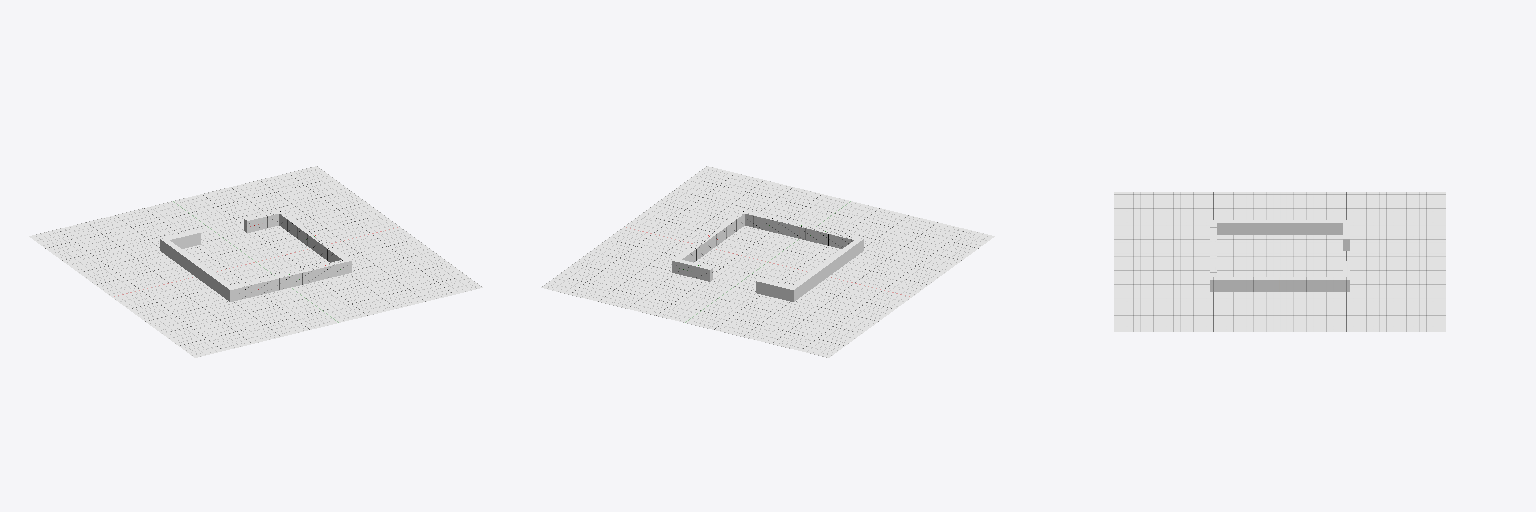
3 renders of one model, left to right at view 1: azimuth 30°, elevation 25°; view 2: azimuth 150°, elevation 25°; view 3: azimuth 270°, elevation 25°, orthographic.
Parts seen in each view (by area): view 1: object40, object24, object32, object16, object0; view 2: object40, object24, object32, object16, object0; view 3: object40, object16, object32.
Boxes of the visible parts, box(x1,y1,x2,y2) form: object40: box(29, 166, 482, 357); object24: box(233, 260, 345, 300); object32: box(160, 238, 235, 301); object16: box(276, 210, 351, 273); object0: box(244, 211, 278, 232); object40: box(541, 166, 994, 357); object24: box(745, 211, 856, 248); object32: box(788, 238, 863, 301); object16: box(672, 210, 747, 273); object0: box(678, 260, 712, 281); object40: box(1114, 192, 1445, 331); object16: box(1210, 277, 1349, 291); object32: box(1210, 220, 1349, 234).
Size of the model in its own units: 50 by 2 by 50.
Materials: 6 (4 with a texture image).